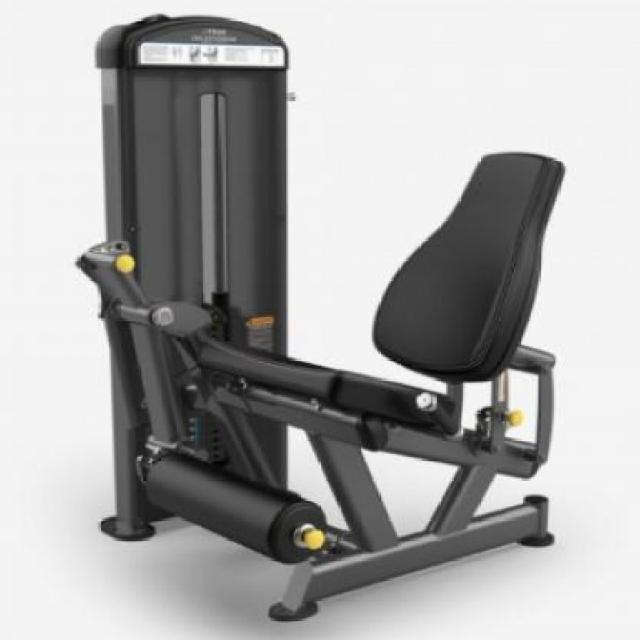leg extension: (61, 6, 582, 625)
